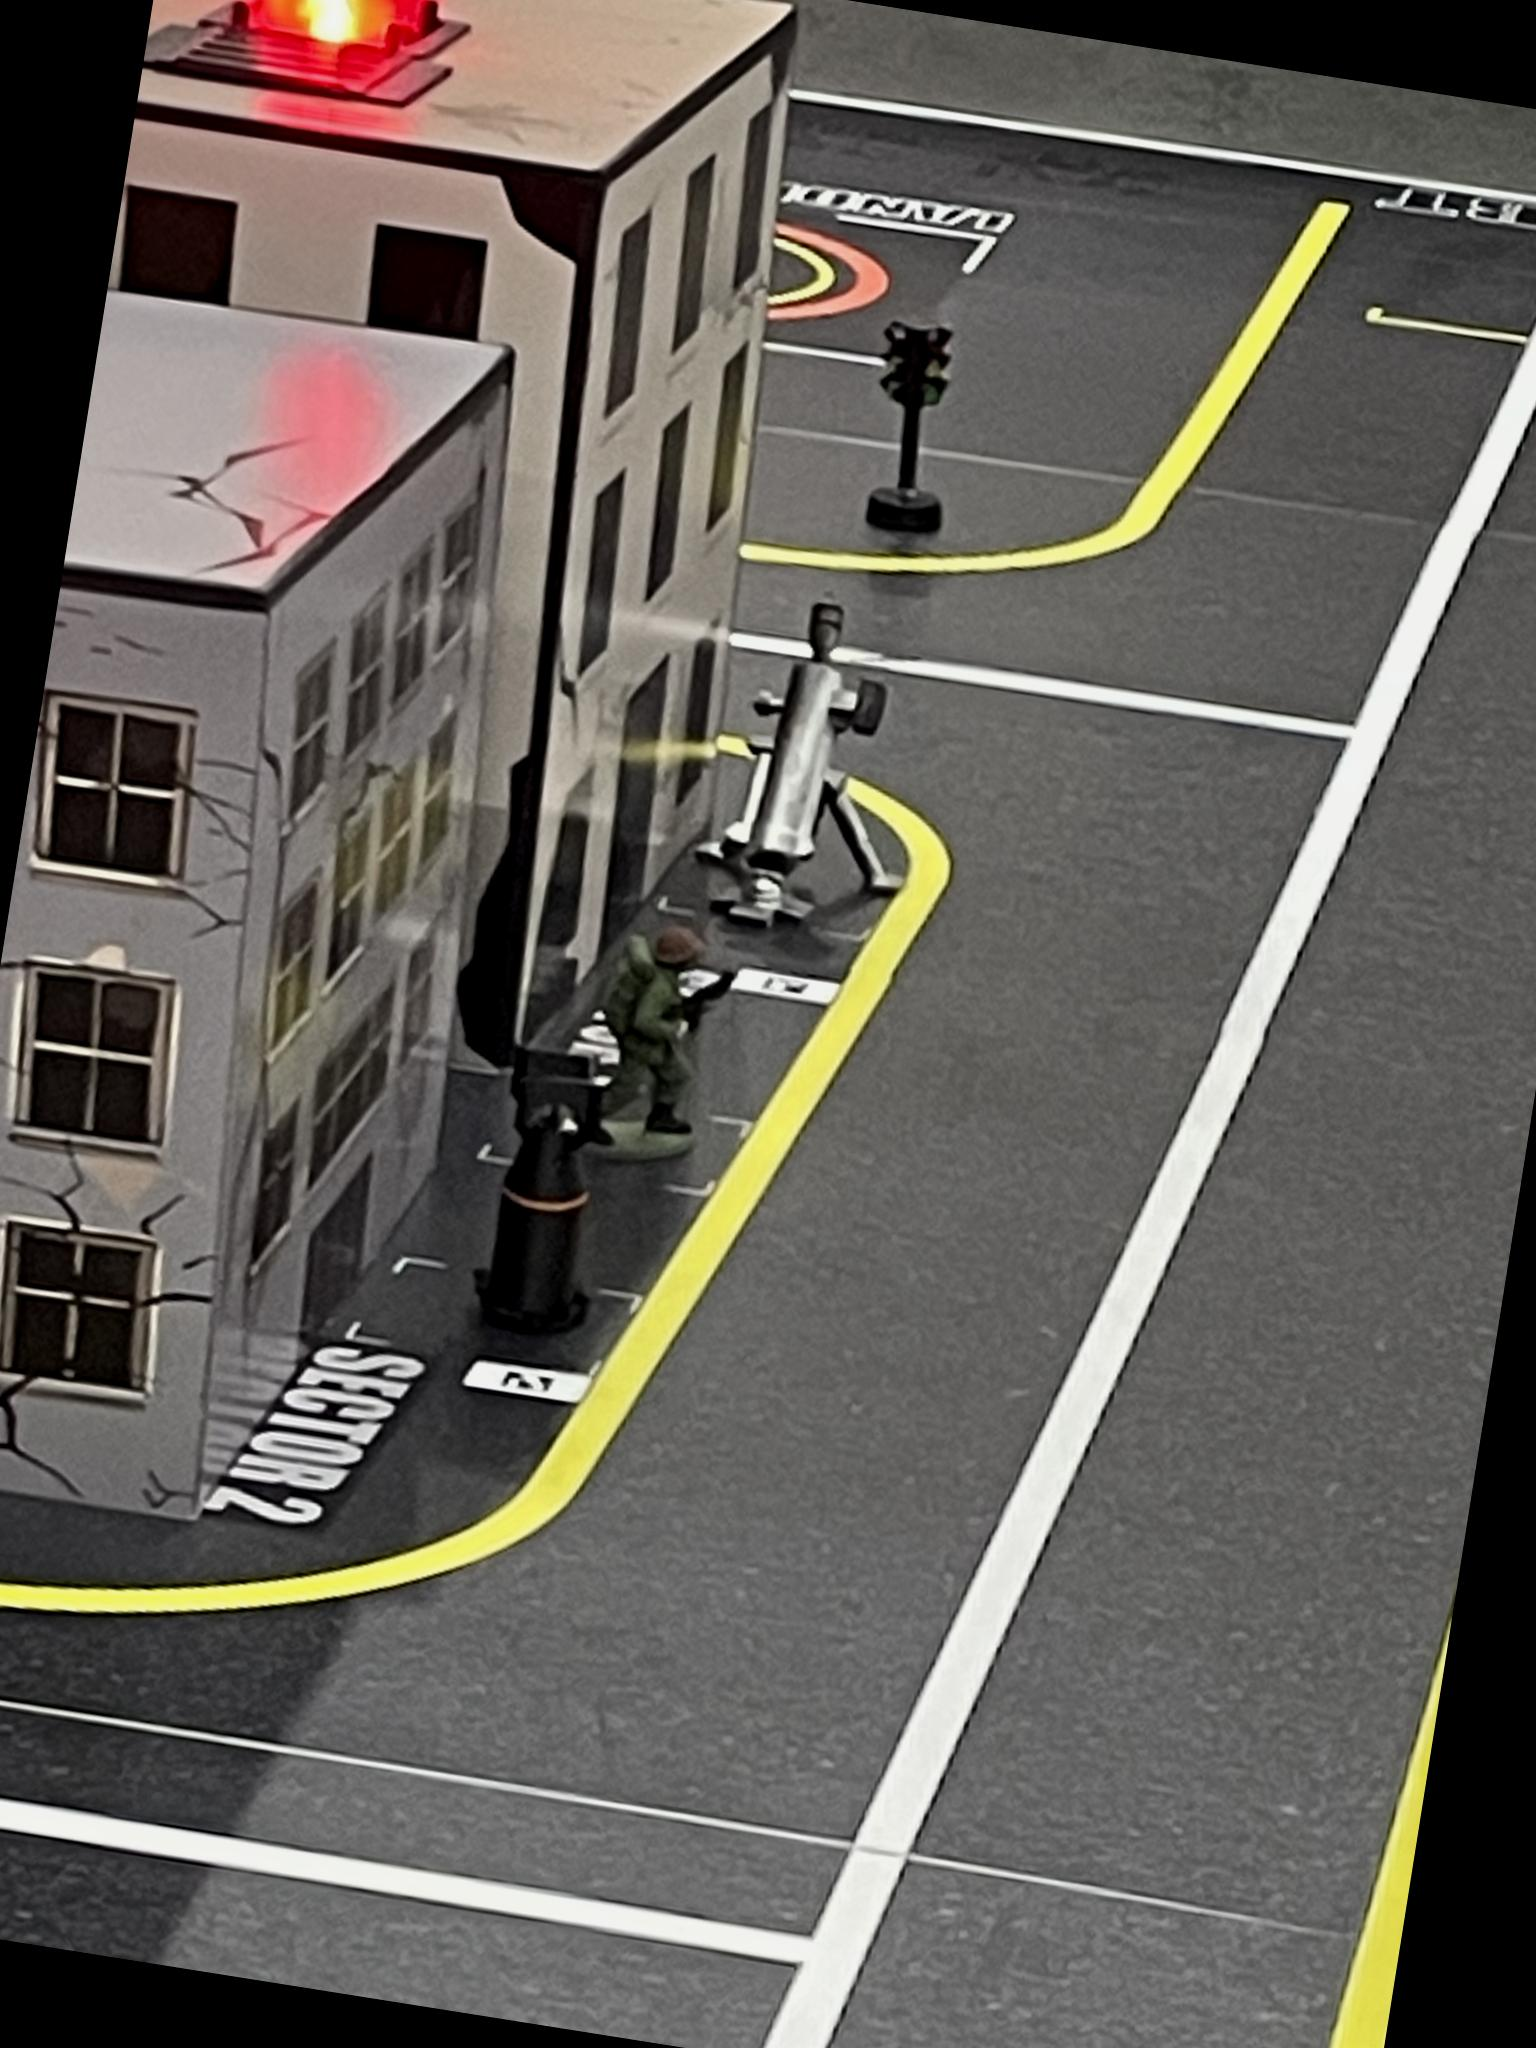Enemy: (589, 908, 753, 1163)
Missile: (463, 1034, 623, 1358)
Mortar: (707, 585, 950, 951)
